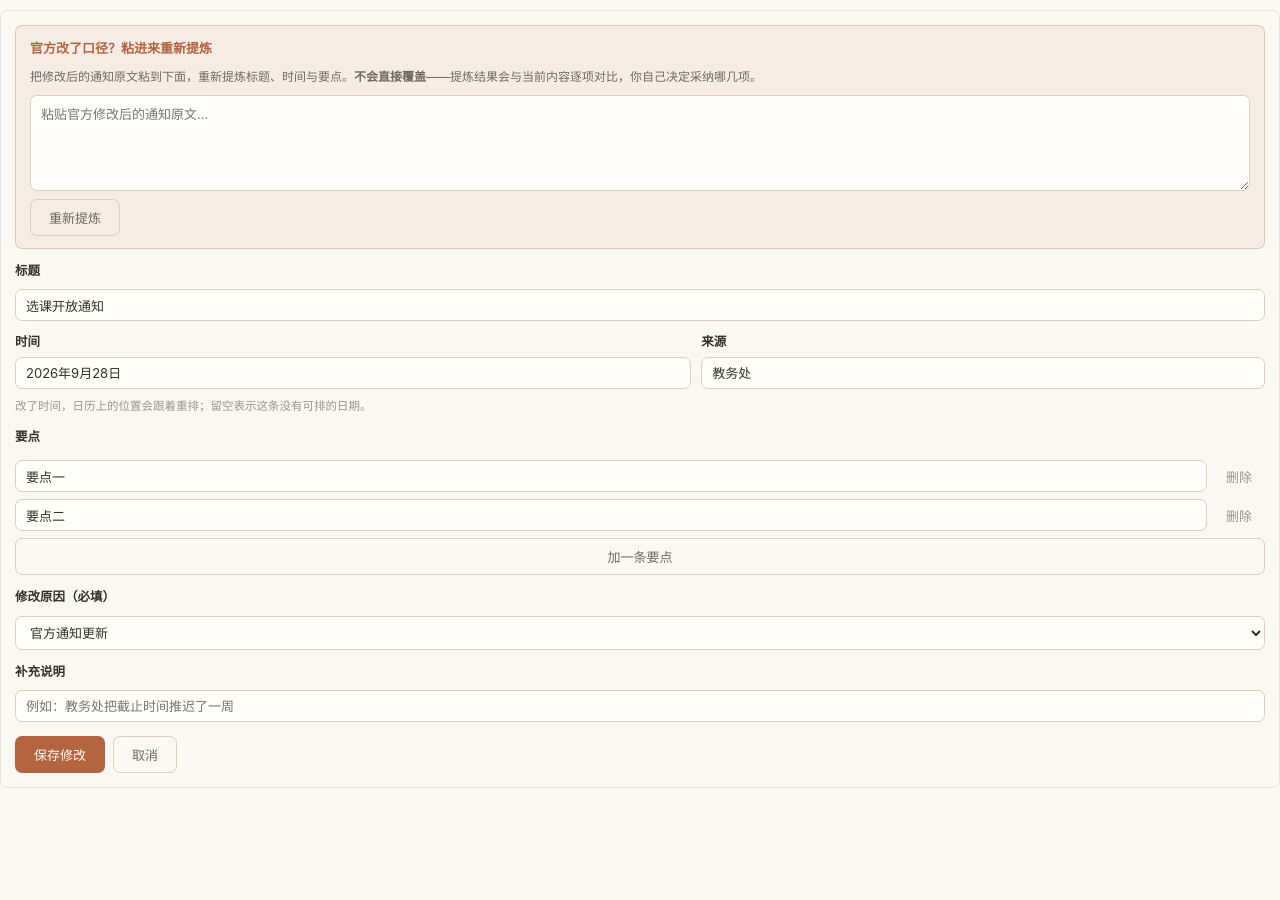
CardEditForm 校验 › 要点全部清空时阻止提交
Clear the field named "要点 1" at (611, 476), box x1=15 y1=460 x2=1207 y2=492
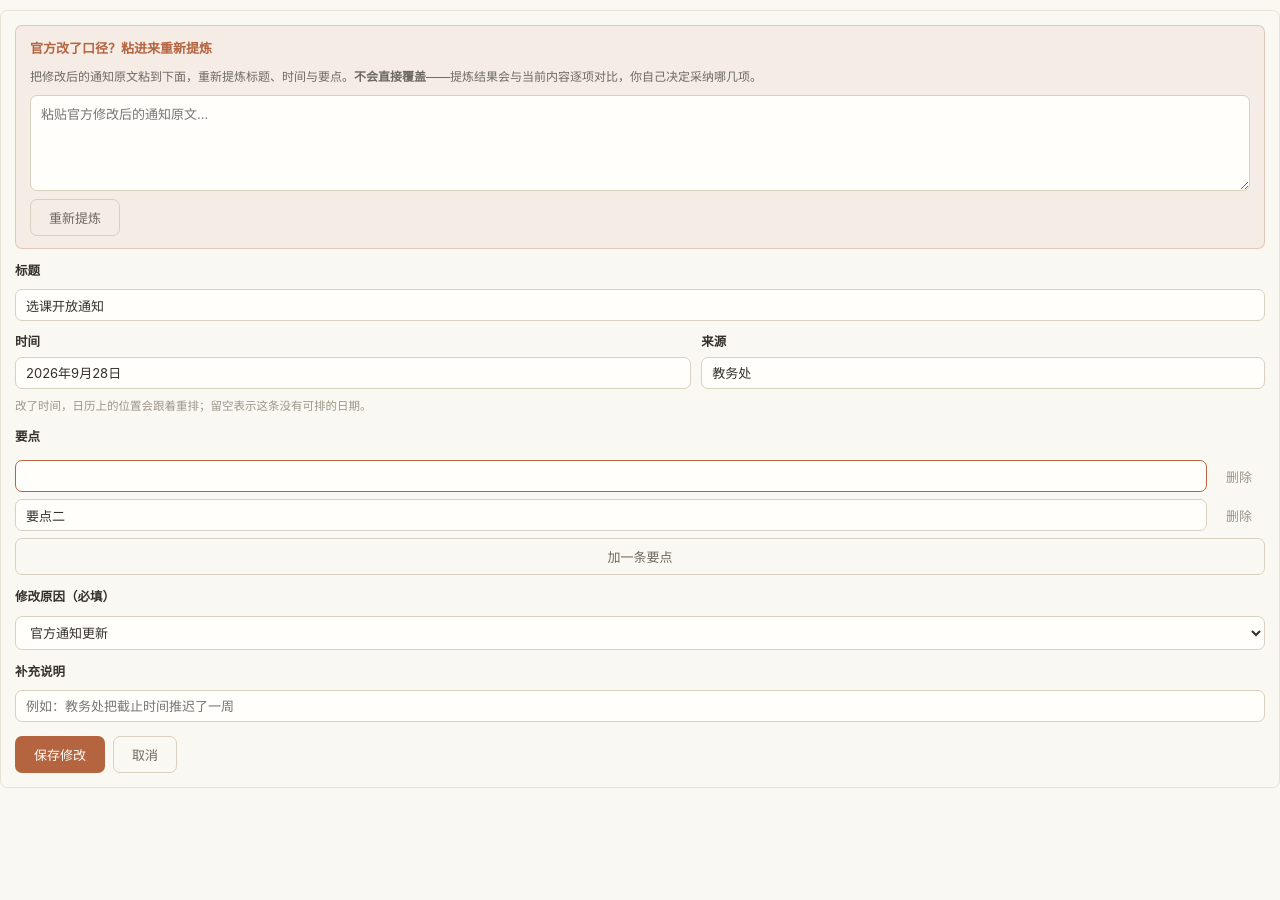
Clear the field named "要点 2" at (611, 515), box x1=15 y1=499 x2=1207 y2=531
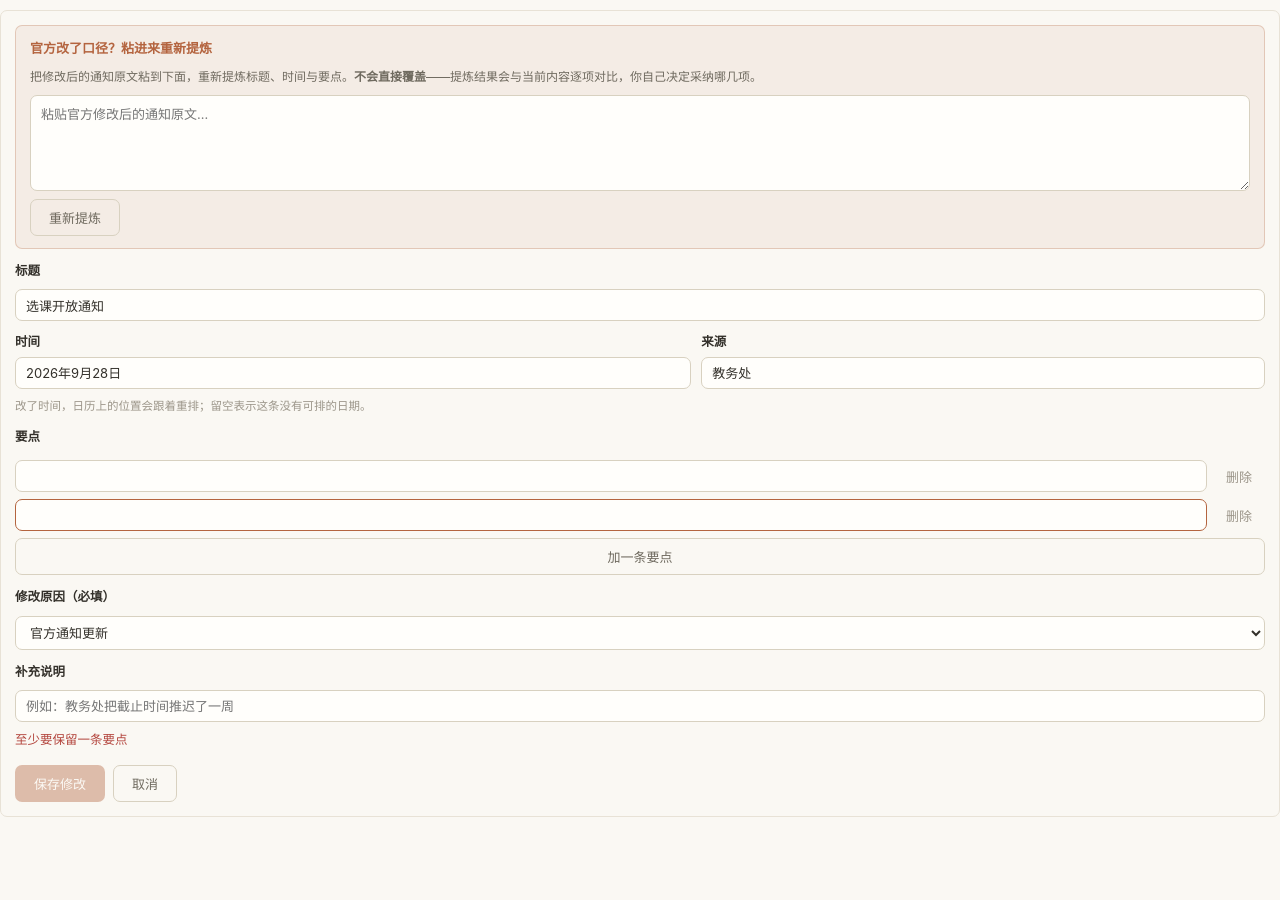
Check: the text "至少要保留一条要点" is shown, box x1=15 y1=732 x2=128 y2=747
